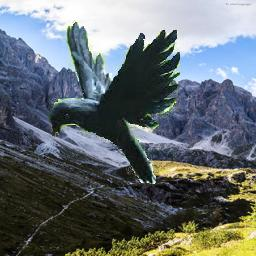Crow: (50, 18, 181, 185)
